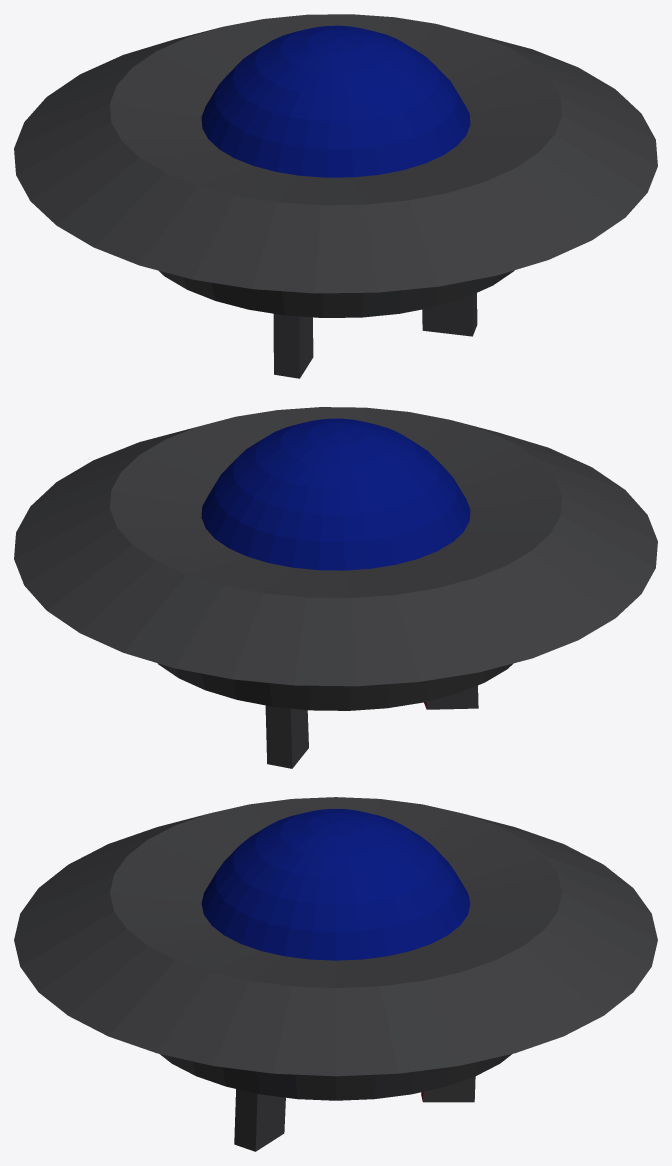
File: DiscoVoador.fbx
3 views of the same model, one above another, from view 1: azimuth 30°, elevation 25°; view 2: azimuth 150°, elevation 25°; view 3: azimuth 270°, elevation 25° (orthographic).
Visible parts, largest first — view 1: DiscoVoador; view 2: DiscoVoador; view 3: DiscoVoador.
Part boxes in pixels (x1,y1,x2,y2): DiscoVoador: [14, 14, 657, 378]; DiscoVoador: [14, 407, 657, 768]; DiscoVoador: [14, 797, 657, 1151].
Size of the model in its own units: 200 by 96.09 by 200.
